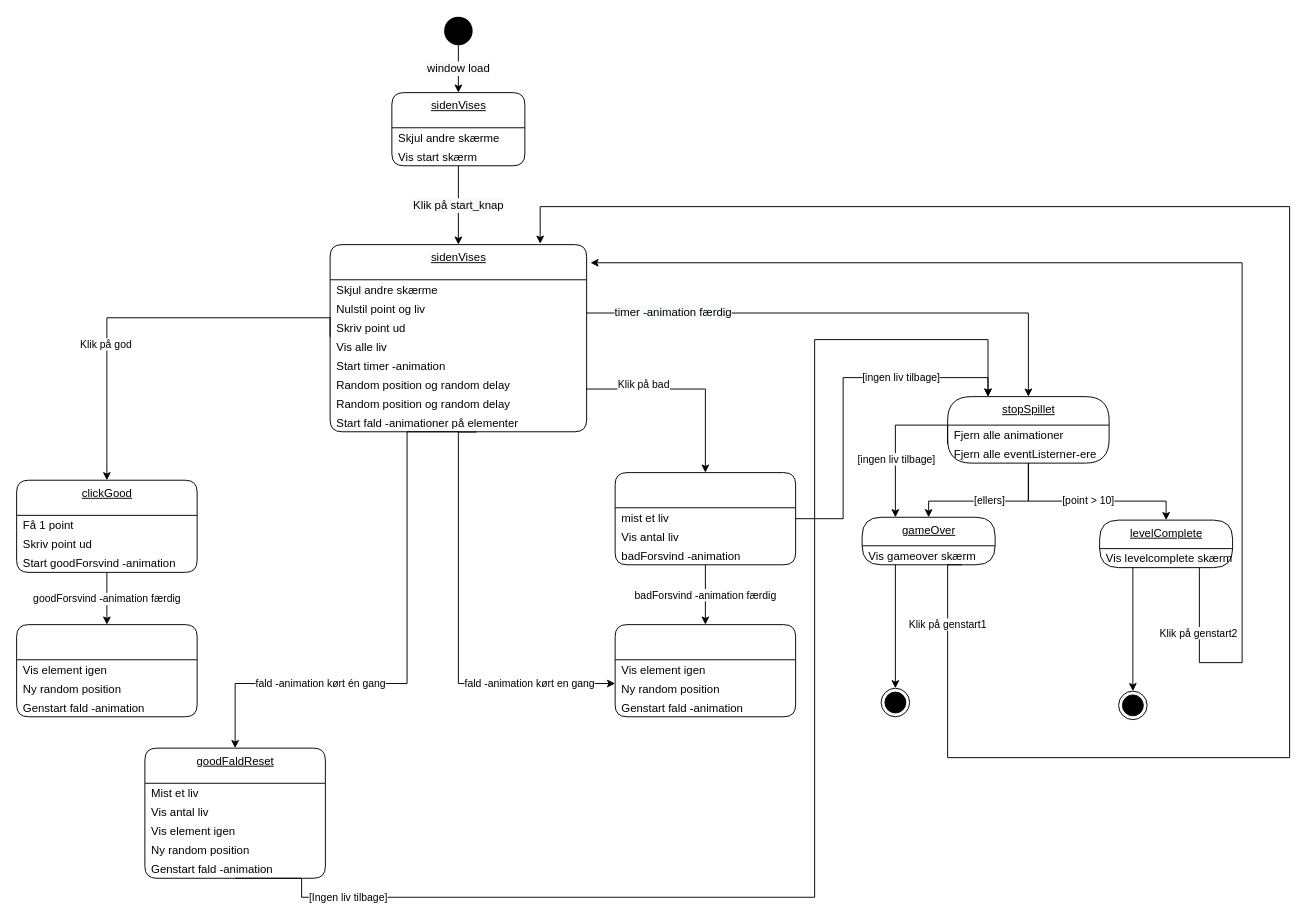
This 1314x922 diagram has some shape labels left out. The box of each missing label's shape, as (x1, y1, x2, y2) in pixels:
badReset: (614, 624, 796, 717)
clickBad: (614, 472, 796, 565)
goodClickReset: (16, 624, 197, 717)
